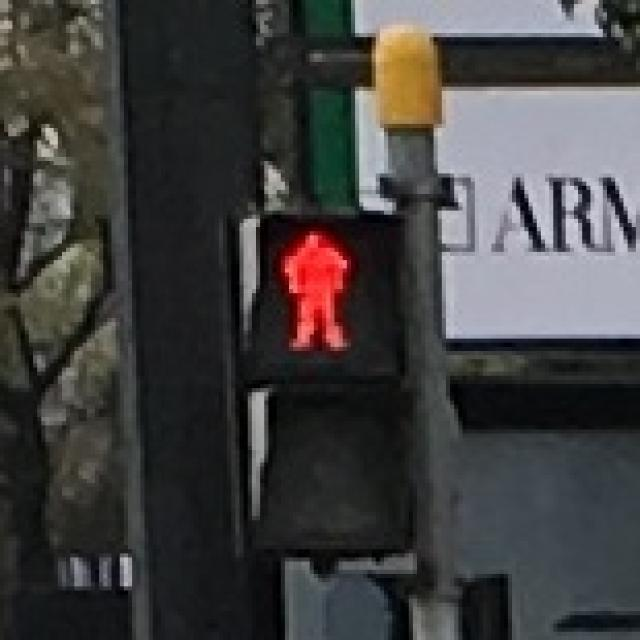red-crossing: (256, 218, 372, 356)
